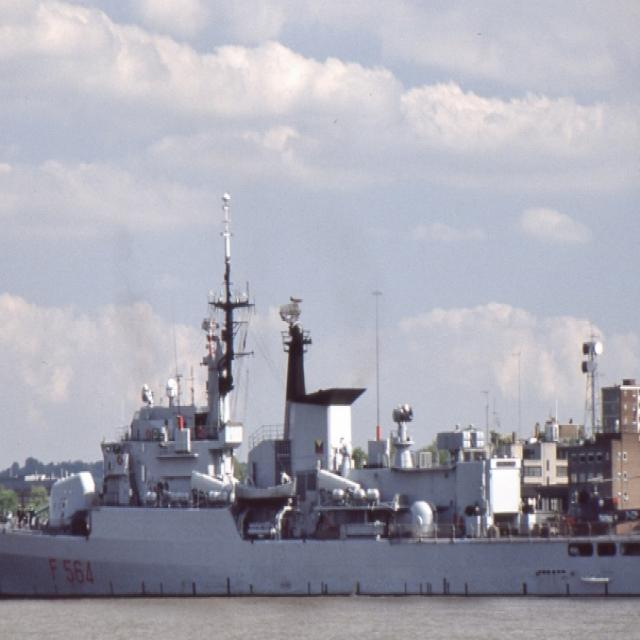Fragata: (1, 186, 640, 608)
